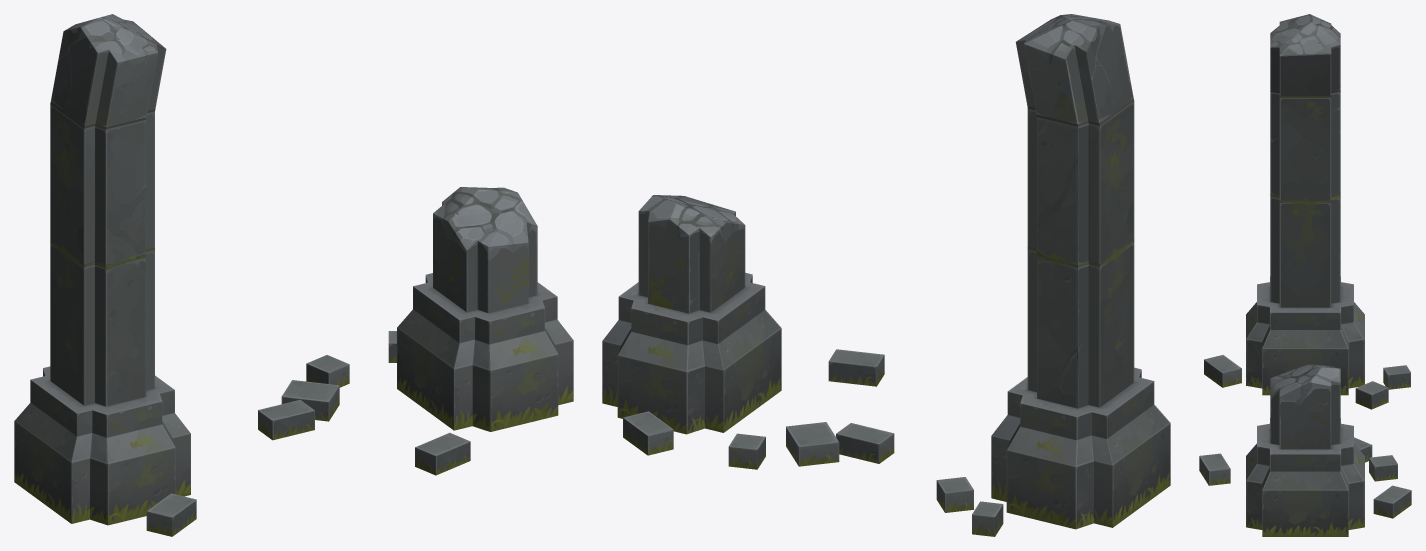
The model's file is Pr_ArchGate_03.FBX.
The picture shows the model from 3 angles, left to right: view 1: azimuth 30°, elevation 25°; view 2: azimuth 150°, elevation 25°; view 3: azimuth 270°, elevation 25°; orthographic projection. The views are drawn at different scales.
Visible parts, largest first — view 1: Pr_ArchGate_03; view 2: Pr_ArchGate_03; view 3: Pr_ArchGate_03.
Boxes of the visible parts, x1,y1,x2,y2 form: Pr_ArchGate_03: (14,14,573,536); Pr_ArchGate_03: (602,14,1170,536); Pr_ArchGate_03: (1199,14,1411,536).
Size of the model in its own units: 4.68 by 4.15 by 2.26.
1 material, 1 textured.
